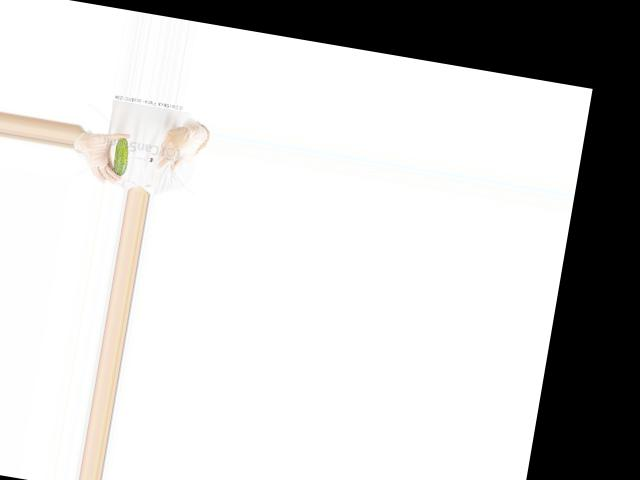cucumber: (110, 136, 130, 177)
